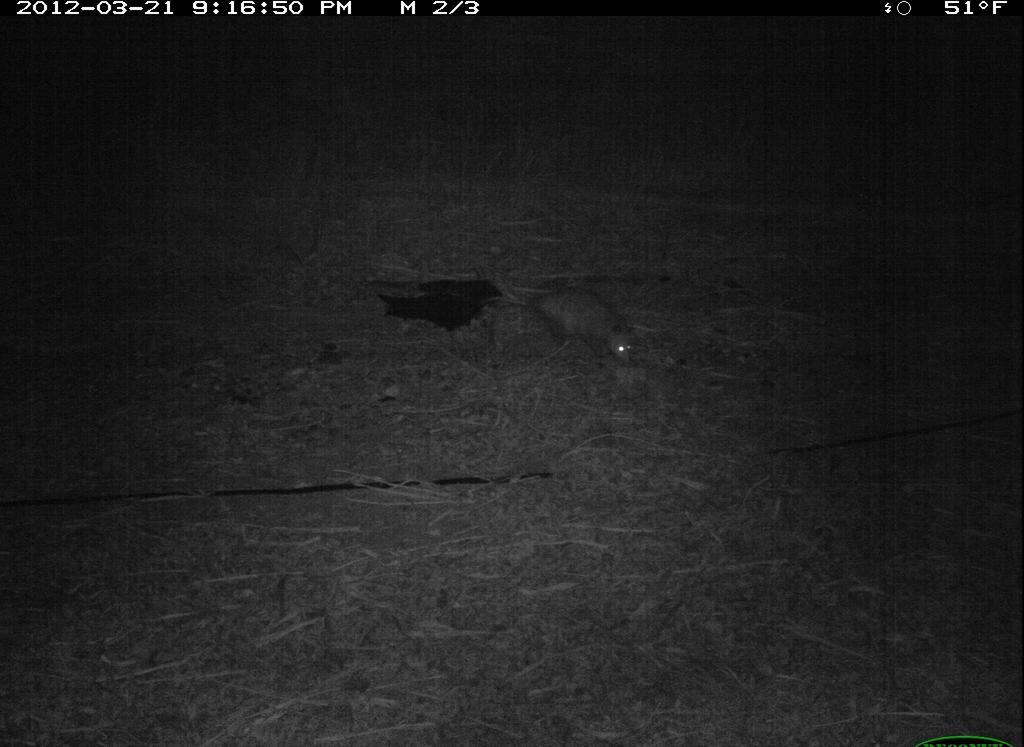opossum: (478, 253, 651, 367)
